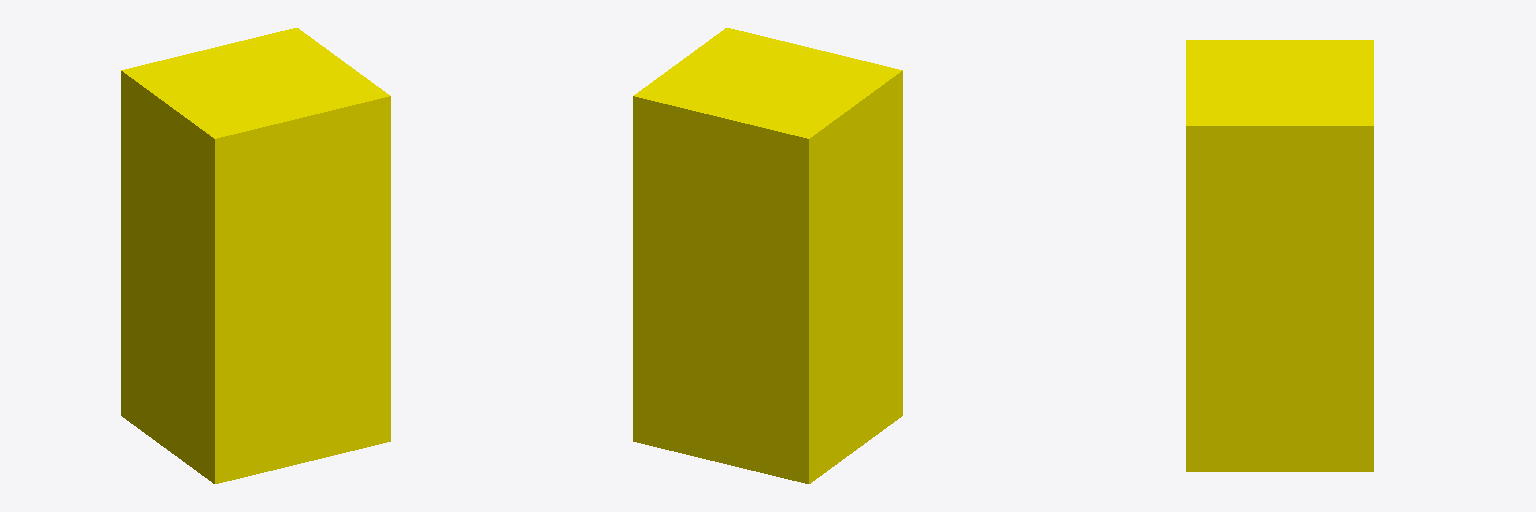
The picture shows the model from 3 angles: view 1: azimuth 30°, elevation 25°; view 2: azimuth 150°, elevation 25°; view 3: azimuth 270°, elevation 25°; orthographic projection.
Parts seen in each view (by area): view 1: yellow_leg_r:polySurface34polySurface32polySurface18; view 2: yellow_leg_r:polySurface34polySurface32polySurface18; view 3: yellow_leg_r:polySurface34polySurface32polySurface18.
Boxes of the visible parts, <box> form: yellow_leg_r:polySurface34polySurface32polySurface18: <box>121,28,390,483</box>; yellow_leg_r:polySurface34polySurface32polySurface18: <box>633,28,902,483</box>; yellow_leg_r:polySurface34polySurface32polySurface18: <box>1186,40,1373,471</box>.
Bounding box in the file's own units: 0.4822 × 0.9041 × 0.4449.
Materials: 1 (1 with a texture image).